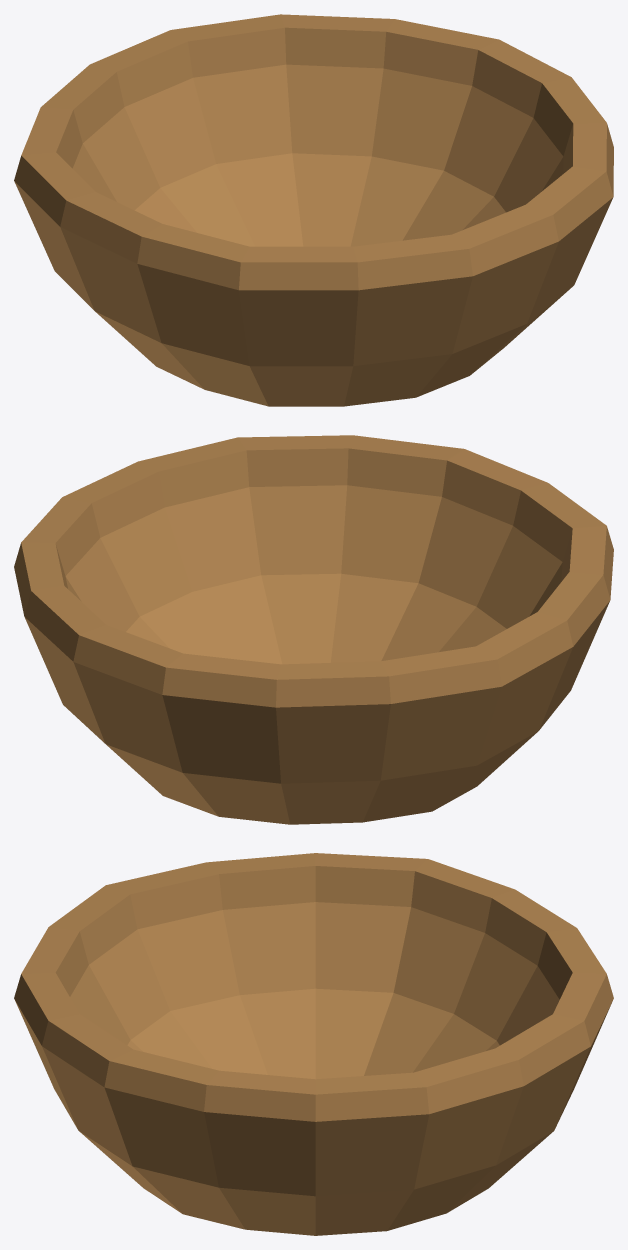
File: bowl_wood_01.glb
The picture shows the model from 3 angles, top to bottom: view 1: azimuth 30°, elevation 25°; view 2: azimuth 150°, elevation 25°; view 3: azimuth 270°, elevation 25°; orthographic projection. The views are drawn at different scales.
Visible parts, largest first — view 1: bowl_wood_01__hollow_bowl; view 2: bowl_wood_01__hollow_bowl; view 3: bowl_wood_01__hollow_bowl.
Boxes of the visible parts, x1=… form: bowl_wood_01__hollow_bowl: x1=14, y1=14, x2=613, y2=406; bowl_wood_01__hollow_bowl: x1=14, y1=435, x2=613, y2=824; bowl_wood_01__hollow_bowl: x1=14, y1=853, x2=613, y2=1235.
Size of the model in its own units: 0.4147 by 0.157 by 0.4249.
